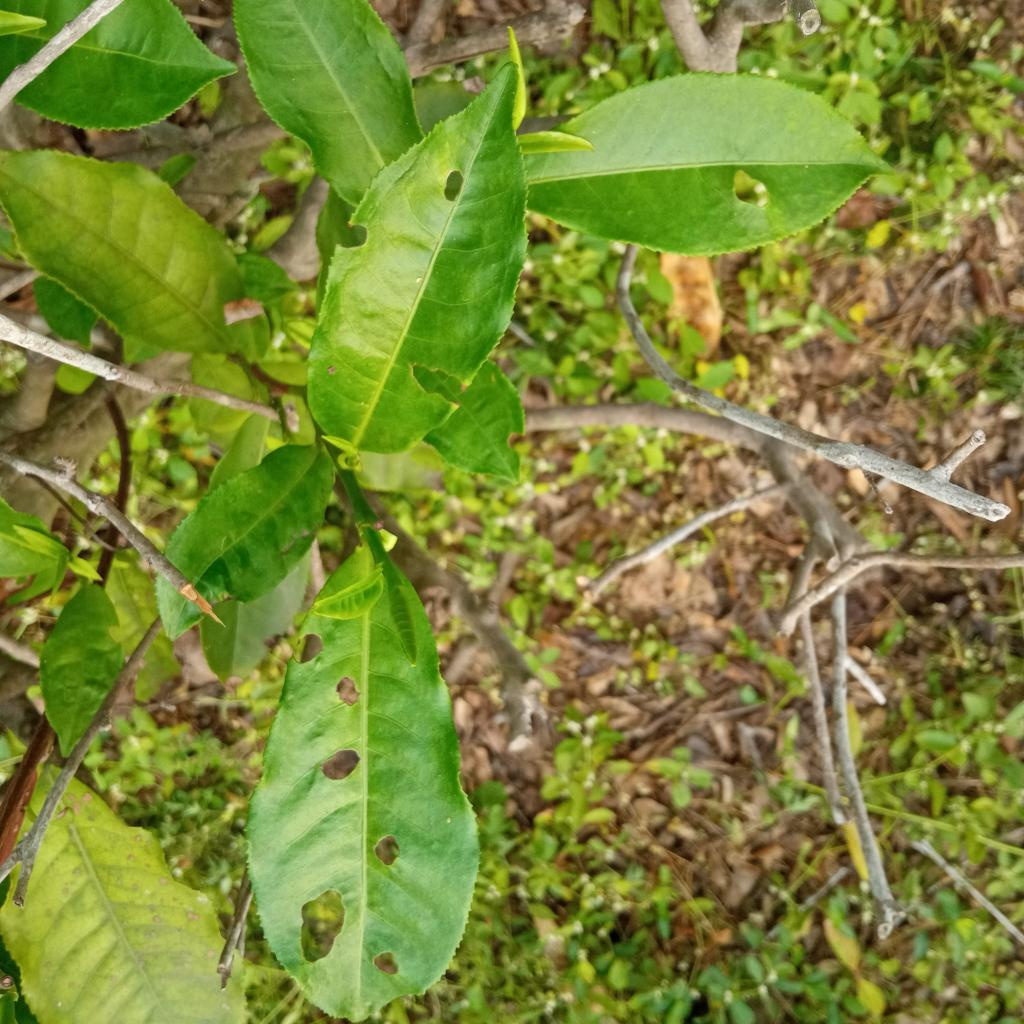Leaf-Hopper: (264, 9, 594, 491), (240, 541, 490, 1024), (509, 62, 895, 262)
